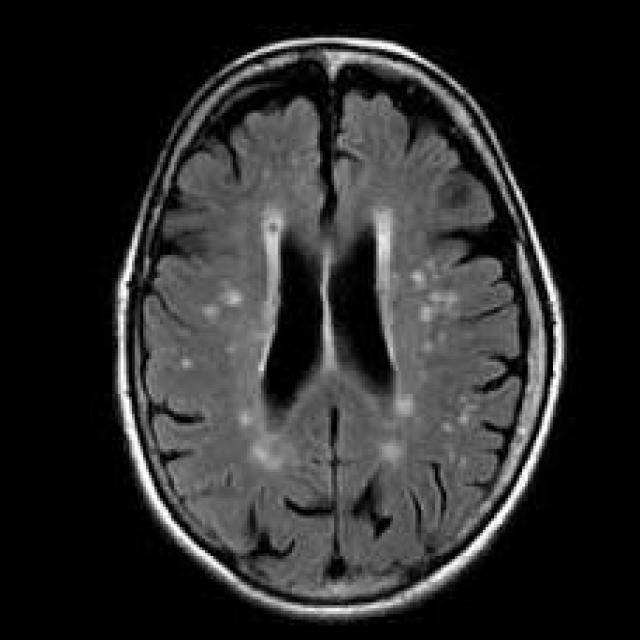notumor: (118, 41, 564, 620)
